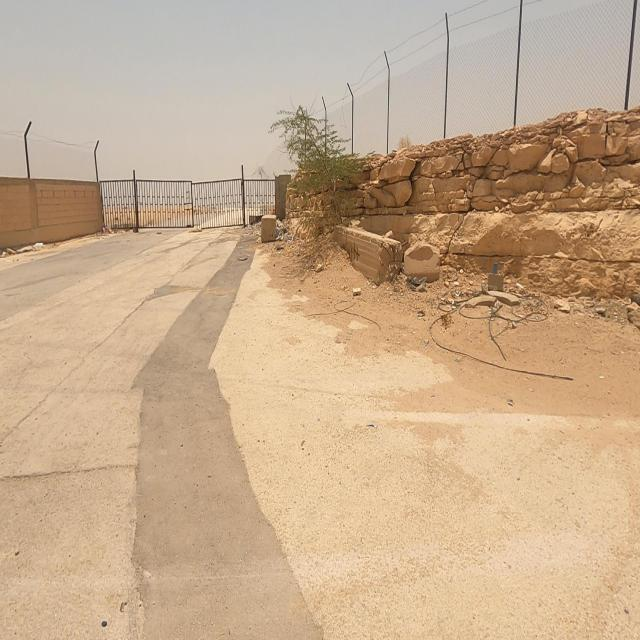debris: (373, 219, 601, 423), (17, 214, 70, 281)
